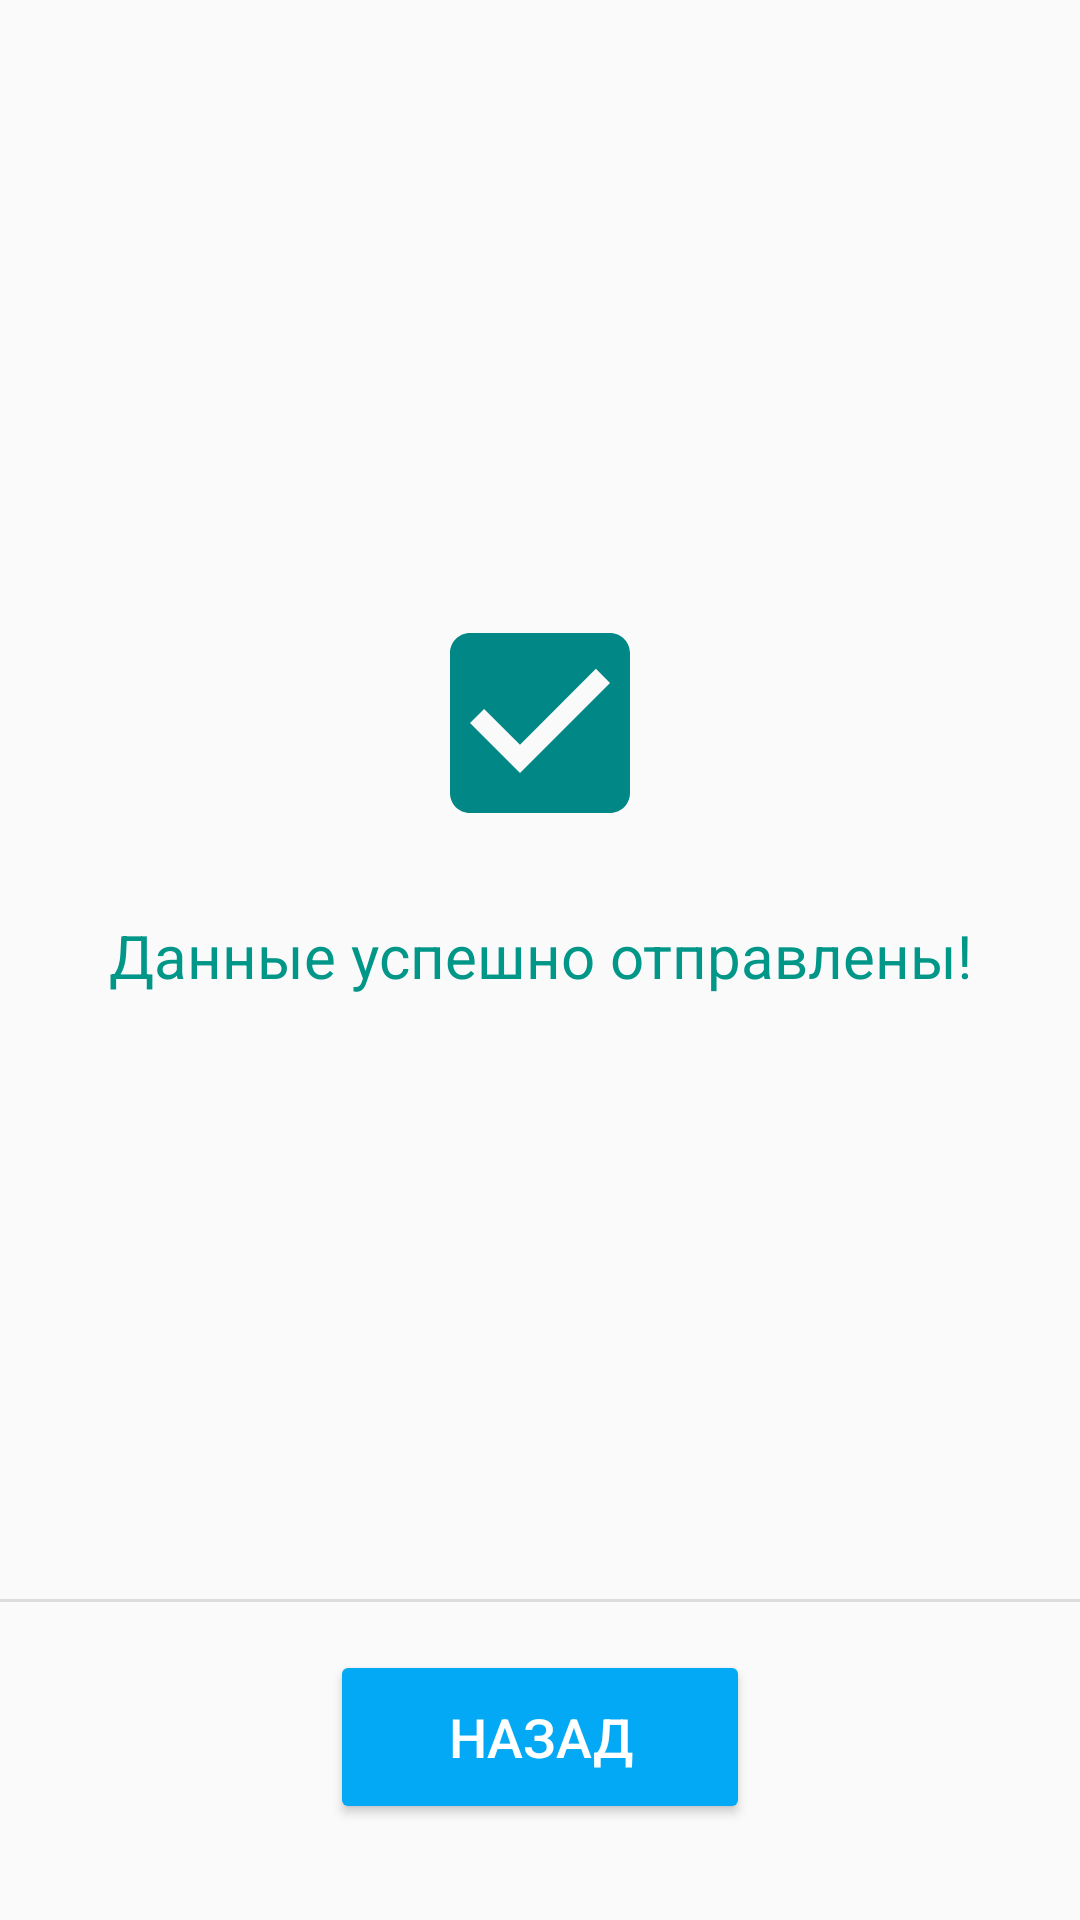

Where to tap for icons on this 1080 x 1920 app screen, as (x,y):
check circle: (540,723)
